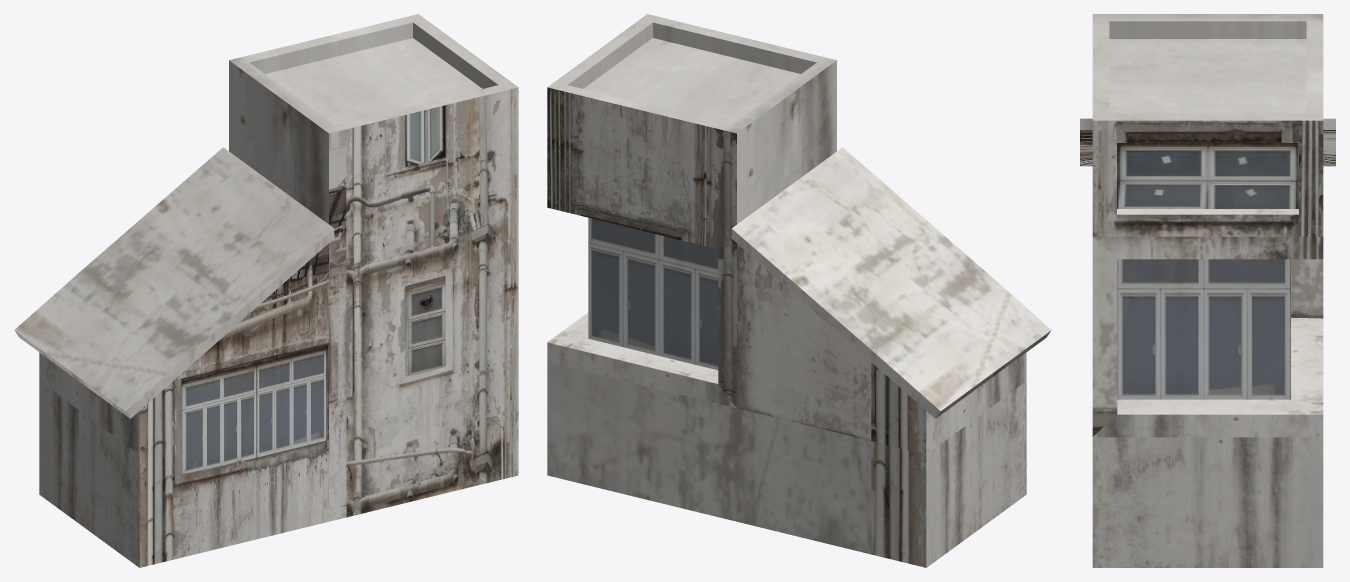
File: PS1Building2.fbx
3 renders of one model, left to right at view 1: azimuth 30°, elevation 25°; view 2: azimuth 150°, elevation 25°; view 3: azimuth 270°, elevation 25°, orthographic. The views are drawn at different scales.
Parts seen in each view (by area): view 1: Cube; view 2: Cube; view 3: Cube.
Boxes of the visible parts, x1,y1,x2,y2 form: Cube: (14,14,518,567); Cube: (547,14,1051,567); Cube: (1080,14,1335,567).
Bounding box in the file's own units: 460 × 427 × 222.
